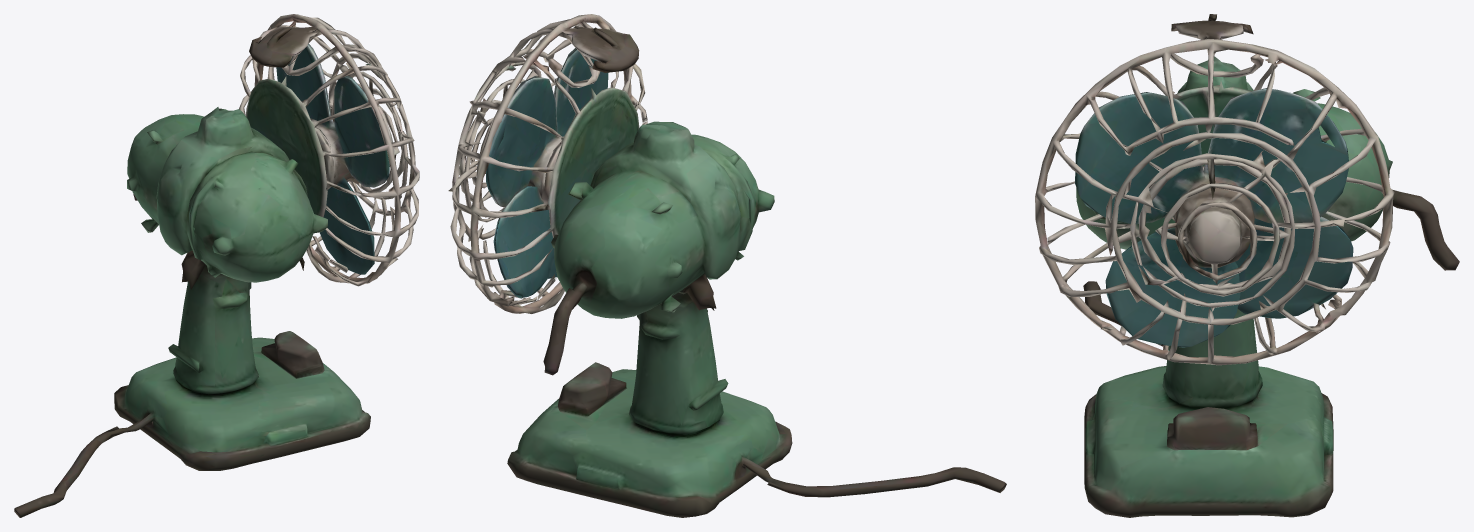
File: deco_fan.glb
3 views of the same model, side by side, from view 1: azimuth 30°, elevation 25°; view 2: azimuth 150°, elevation 25°; view 3: azimuth 270°, elevation 25° (orthographic). The views are drawn at different scales.
Parts seen in each view (by area): view 1: tripo_node_44c5f17d-b2db-4e17-887d-b816da5a8625; view 2: tripo_node_44c5f17d-b2db-4e17-887d-b816da5a8625; view 3: tripo_node_44c5f17d-b2db-4e17-887d-b816da5a8625.
Boxes of the visible parts, <box> form: tripo_node_44c5f17d-b2db-4e17-887d-b816da5a8625: <box>14,14,419,517</box>; tripo_node_44c5f17d-b2db-4e17-887d-b816da5a8625: <box>448,14,1006,517</box>; tripo_node_44c5f17d-b2db-4e17-887d-b816da5a8625: <box>1035,14,1459,517</box>.
Bounding box in the file's own units: 1 × 0.8723 × 0.7008.
Materials: 1 (1 with a texture image).
